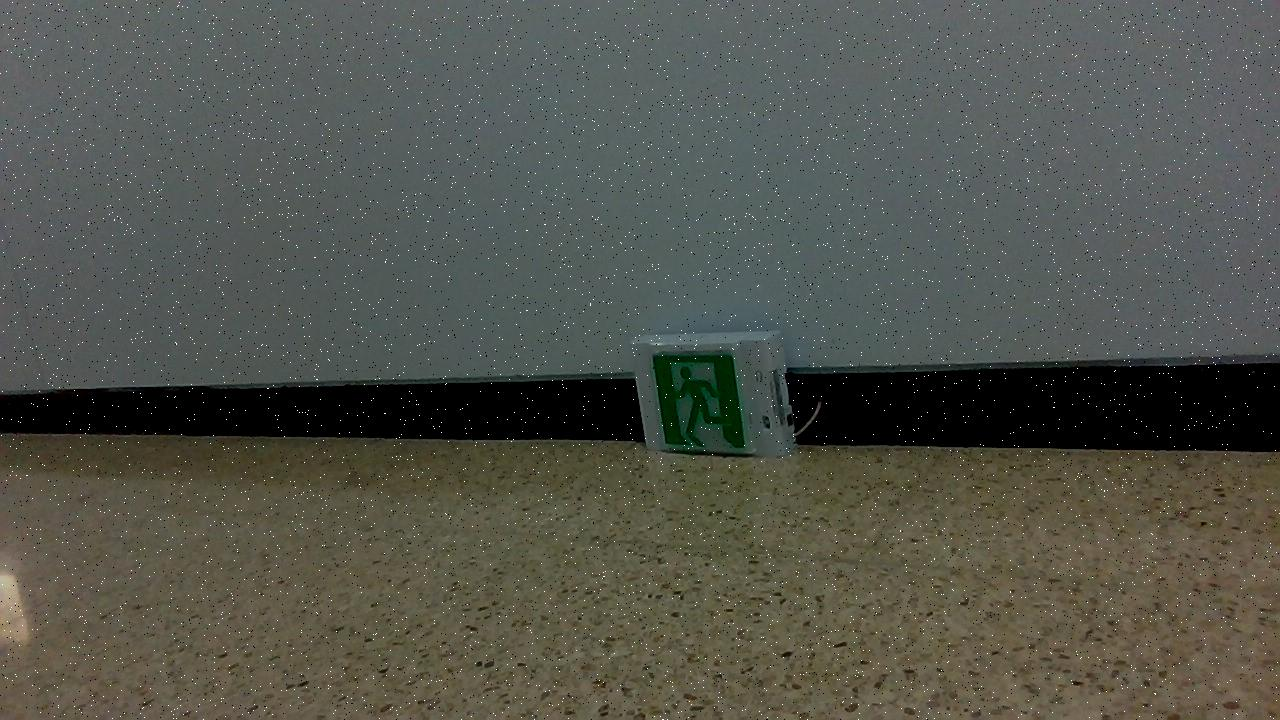emergency_exit: (631, 331, 796, 458)
